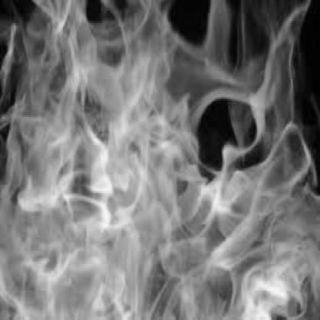Fire: (0, 0, 318, 316)
